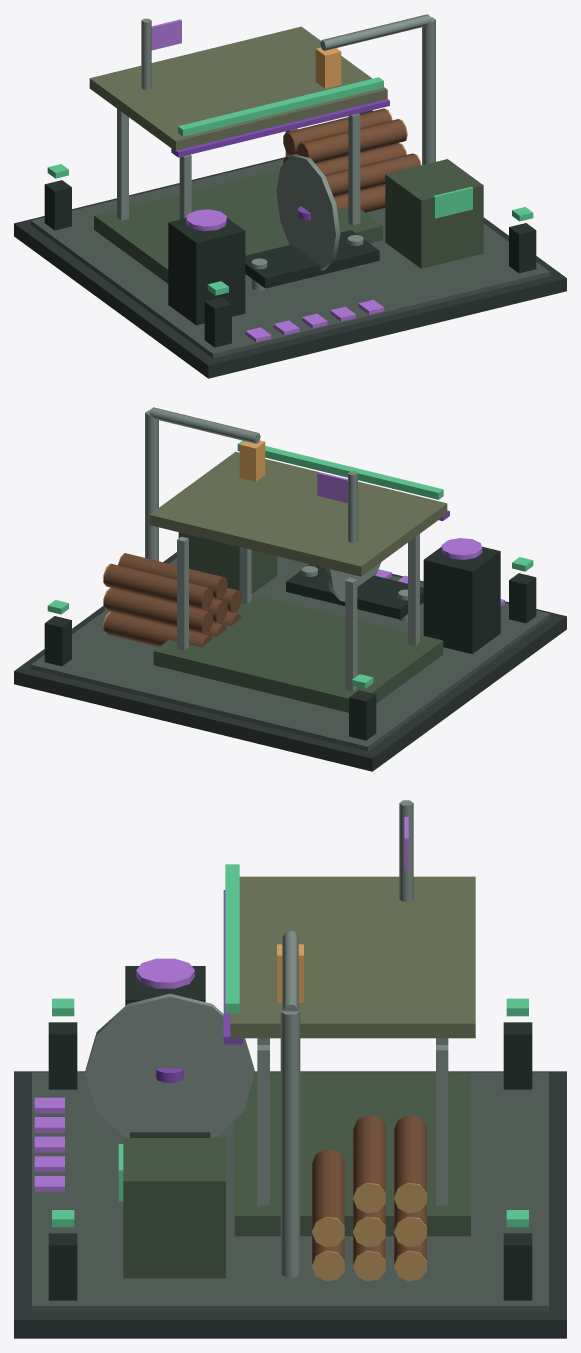
The model's file is timberline_l05.glb.
3 views of the same model, one above another, from view 1: azimuth 30°, elevation 25°; view 2: azimuth 150°, elevation 25°; view 3: azimuth 270°, elevation 25° (orthographic). The views are drawn at different scales.
Visible parts, largest first — view 1: timberline_l05; view 2: timberline_l05; view 3: timberline_l05.
Part boxes in pixels (left/top/right/bottom): timberline_l05: left=14, top=14, right=566, bottom=378; timberline_l05: left=14, top=407, right=566, bottom=771; timberline_l05: left=14, top=800, right=566, bottom=1338.
Bounding box in the file's own units: 6.6 × 4.2 × 6.2.
